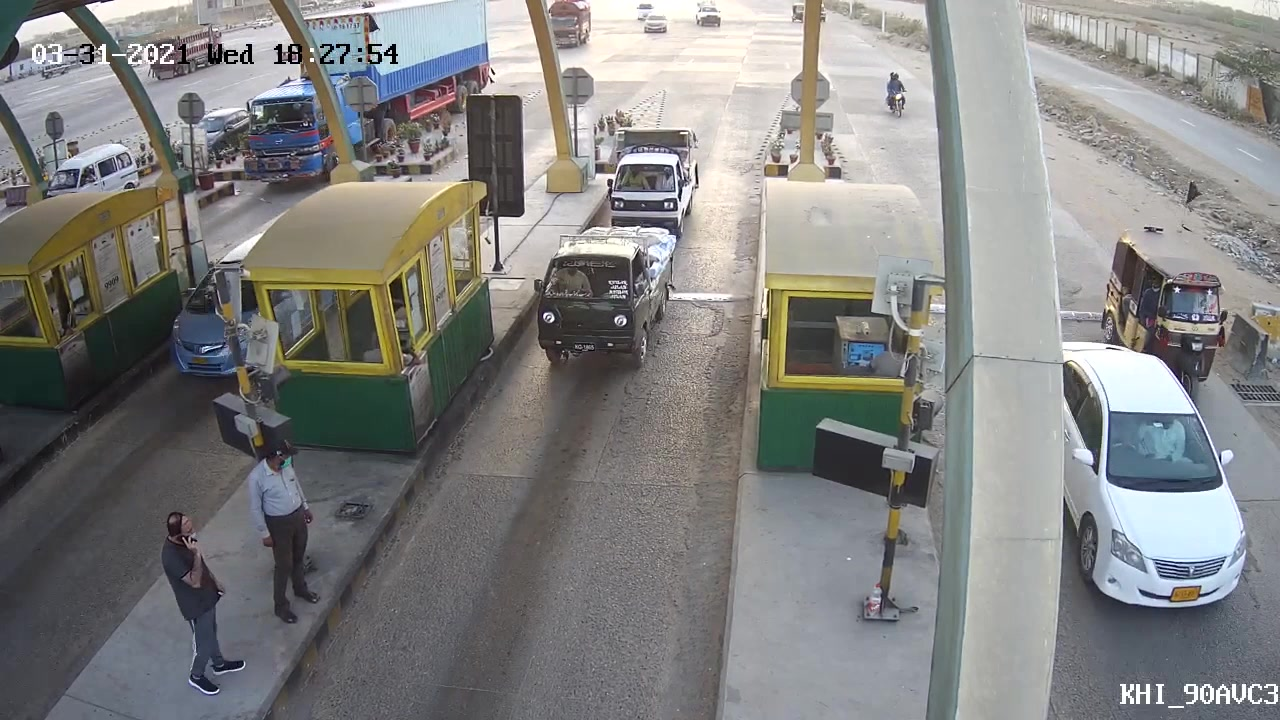F1: (526, 220, 678, 371)
